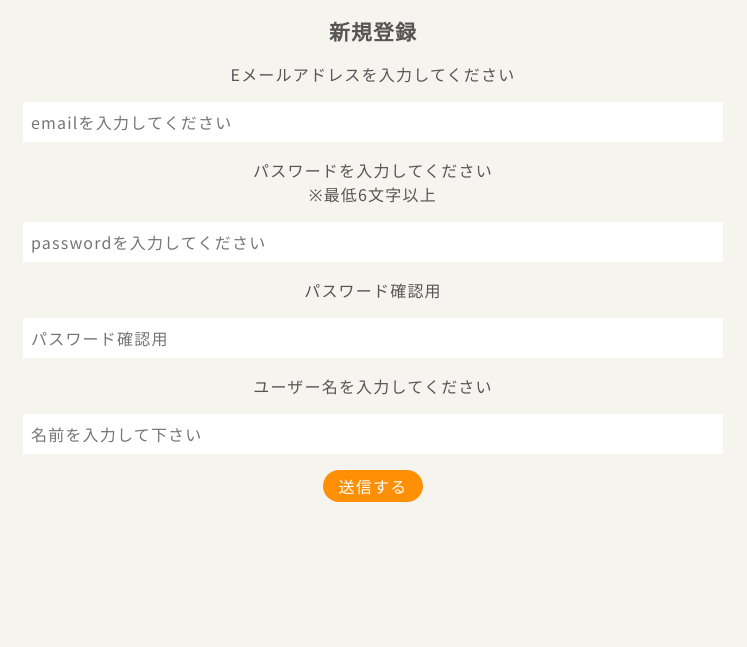
SignUp Component › Validate message should appear
Check: the heading "新規登録" is shown, box [329,16,417,46]
Type "dummy" into the field with placeholder "emailを入力してください".
click(373, 122); type("dummy")  # box [23,102,723,142]
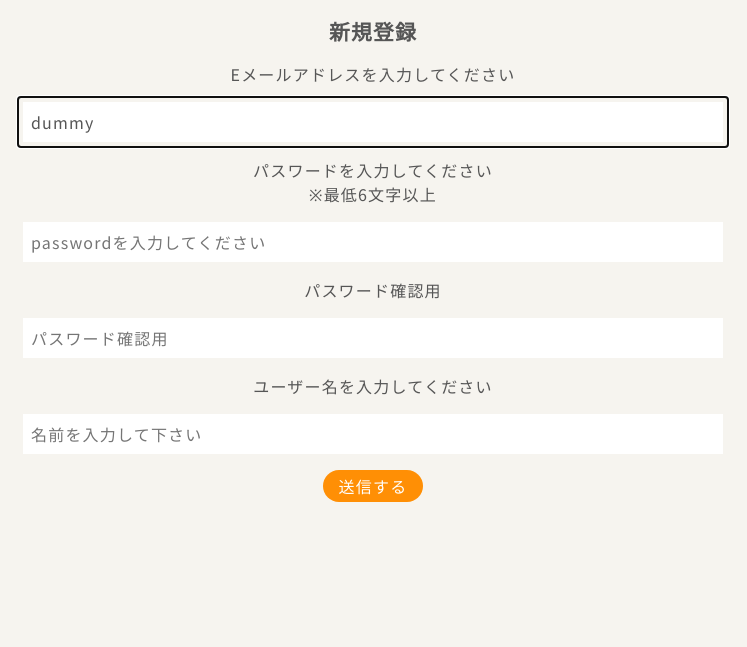
Check: the text "正しいメールアドレスを入力して下さい" is not shown
フォーカスを外す
Press Tab
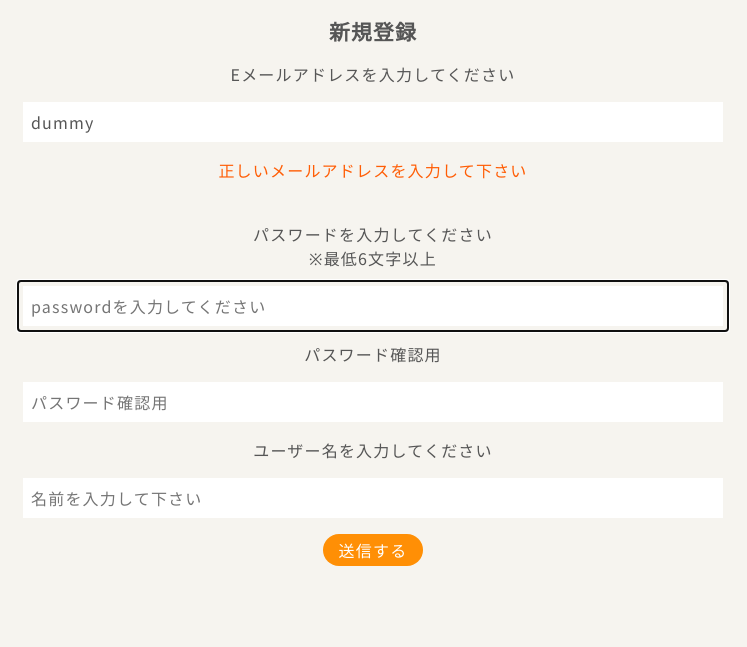
Check: the text "正しいメールアドレスを入力して下さい" is shown, box [218,158,528,182]
Type "dummy" into the password field with placeholder "passwordを入力してください".
click(373, 306); type("dummy")  # box [23,286,723,326]
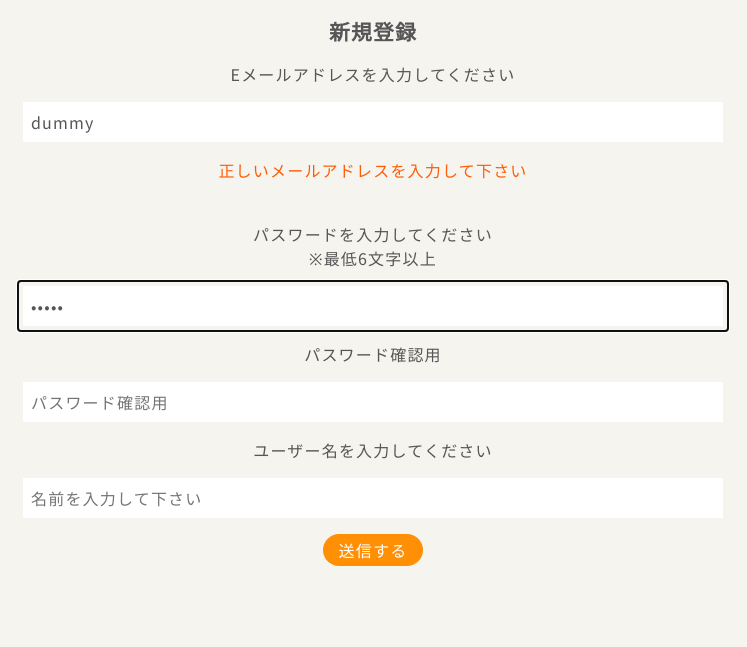
Check: the text "パスワードは6文字以上入力して下さい" is not shown
フォーカスを外す
Press Tab
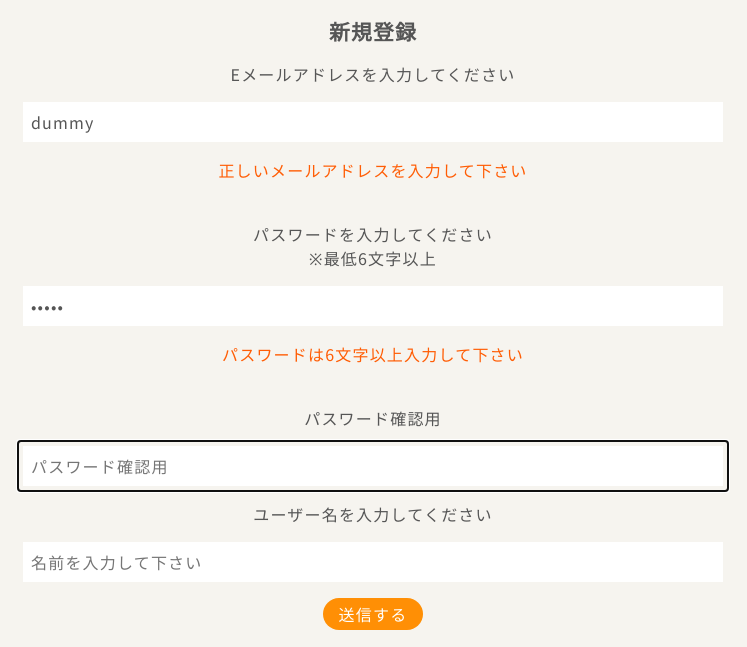
Check: the text "パスワードは6文字以上入力して下さい" is shown, box [222,342,524,366]
